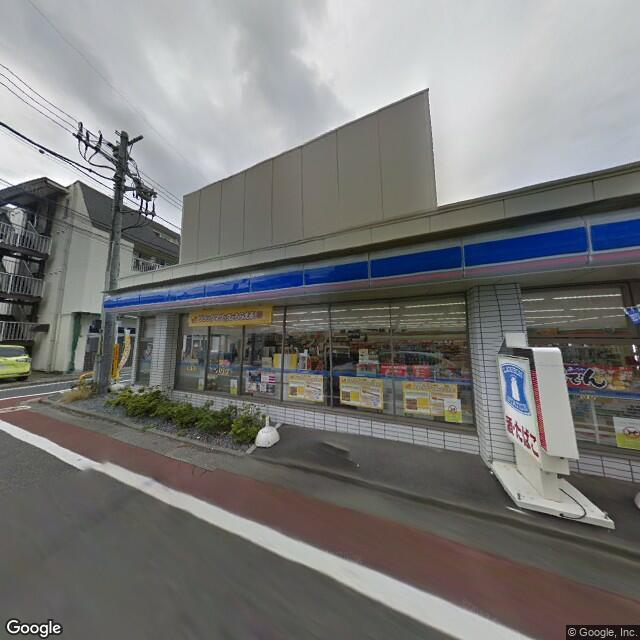lawson: (104, 200, 639, 313), (500, 356, 530, 416)
